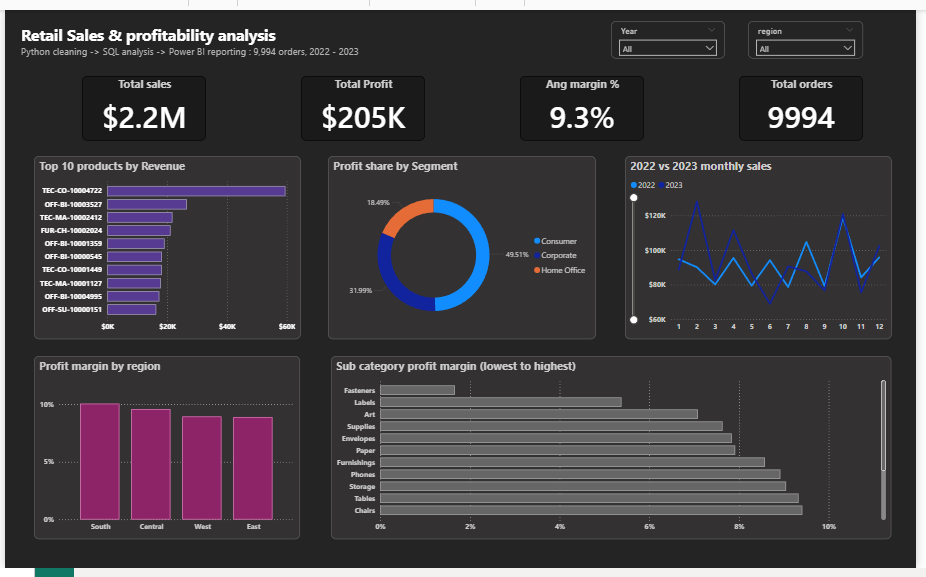

This screenshot's page, from the dashboard's own definition file:
{"tool":"powerbi","page":{"name":"Page 1","canvas":[1550,950],"ordinal":0},"visuals":[{"type":"textbox","box":[22.4,18.7,858.4,72.9],"z":0},{"type":"card","title":"Total sales","fields":{"Values":["Sum(df_orders_clean.sale_price)"]},"box":[130.9,112.2,211.3,110.3],"z":1000},{"type":"card","title":"Total Profit","fields":{"Values":["Sum(df_orders_clean.profit)"]},"box":[503.7,112.2,211.3,110.3],"z":2000},{"type":"card","title":"Ang margin %","fields":{"Values":["df_orders_clean.Margin %"]},"box":[876.4,112.2,211.3,110.3],"z":3000},{"type":"card","title":"Total orders","fields":{"Values":["CountNonNull(df_orders_clean.order_id)"]},"box":[1249.2,112.2,211.3,110.3],"z":4000},{"type":"clusteredBarChart","title":"Top 10 products by Revenue","fields":{"Y":["Sum(df_orders_clean.sale_price)"],"Category":["df_orders_clean.product_id"]},"box":[48.6,248.7,454.4,312.3],"z":5000},{"type":"donutChart","title":"Profit share by Segment","fields":{"Y":["Sum(df_orders_clean.profit)"],"Category":["df_orders_clean.segment"]},"box":[550.7,248.7,456.3,312.3],"z":6000},{"type":"lineChart","title":"2022 vs 2023 monthly sales","fields":{"Category":["df_orders_clean.Month"],"Y":["Sum(df_orders_clean.sale_price)"],"Series":["df_orders_clean.Year"]},"box":[1054.7,248.7,454.4,312.3],"z":7000},{"type":"clusteredColumnChart","title":"Profit margin by region","fields":{"Category":["df_orders_clean.region"],"Y":["df_orders_clean.Margin %"]},"box":[48.6,589.1,452.6,312.3],"z":8000},{"type":"clusteredBarChart","title":"Sub category profit margin (lowest to highest)","fields":{"Y":["df_orders_clean.Margin %"],"Category":["df_orders_clean.sub_category"]},"box":[555.4,589.1,953.7,312.3],"z":9000},{"type":"slicer","fields":{"Values":["df_orders_clean.Year"]},"box":[1032.3,18.7,194.5,63.6],"z":9001},{"type":"slicer","fields":{"Values":["df_orders_clean.region"]},"box":[1264.2,18.7,196.4,63.6],"z":9002}]}

Visuals, with their boxes in screenshot pixels (x1, y1, x2, y2), scaled from the page's 1550x950 canvas onto the 926x577 screenshot:
textbox: l=13, t=11, r=526, b=56
"Total sales" card: l=78, t=68, r=204, b=135
"Total Profit" card: l=301, t=68, r=427, b=135
"Ang margin %" card: l=524, t=68, r=650, b=135
"Total orders" card: l=746, t=68, r=873, b=135
"Top 10 products by Revenue" clusteredBarChart: l=29, t=151, r=301, b=341
"Profit share by Segment" donutChart: l=329, t=151, r=602, b=341
"2022 vs 2023 monthly sales" lineChart: l=630, t=151, r=902, b=341
"Profit margin by region" clusteredColumnChart: l=29, t=358, r=299, b=547
"Sub category profit margin (lowest to highest)" clusteredBarChart: l=332, t=358, r=902, b=547
slicer - df_orders_clean.Year: l=617, t=11, r=733, b=50
slicer - df_orders_clean.region: l=755, t=11, r=873, b=50
